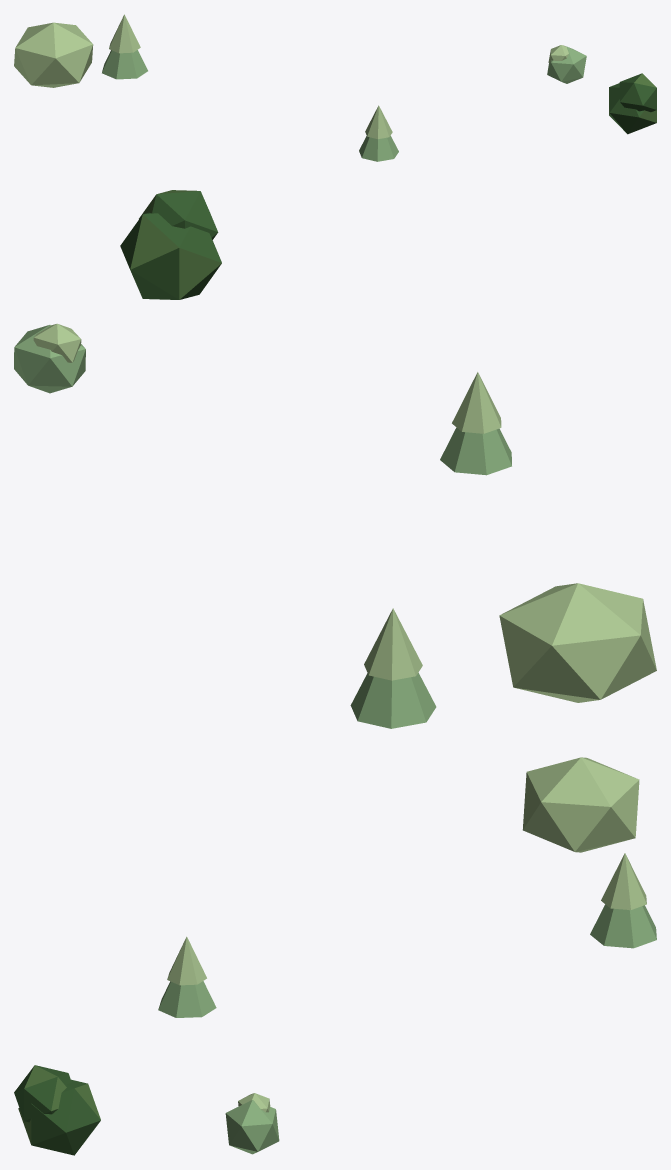
The model's file is side_treasure_hollow_wind_canopies.fbx.
The picture shows the model from 3 angles, top to bottom: view 1: azimuth 30°, elevation 25°; view 2: azimuth 150°, elevation 25°; view 3: azimuth 270°, elevation 25°; orthographic projection. The views are drawn at different scales.
Visible parts, largest first — view 1: chunk_side_treasure_hollow__tree_canopy_01, chunk_side_treasure_hollow__detail_scatter_tree_02_canopy, chunk_side_treasure_hollow__tree_canopy_02, chunk_side_treasure_hollow__tree_canopy_07, chunk_side_treasure_hollow__tree_canopy_04, chunk_side_treasure_hollow__tree_canopy_03, chunk_side_treasure_hollow__tree_canopy_05, chunk_side_treasure_hollow__tree_canopy_06; view 2: chunk_side_treasure_hollow__tree_canopy_01, chunk_side_treasure_hollow__detail_scatter_tree_02_canopy, chunk_side_treasure_hollow__tree_canopy_02, chunk_side_treasure_hollow__tree_canopy_07, chunk_side_treasure_hollow__tree_canopy_04, chunk_side_treasure_hollow__tree_canopy_03, chunk_side_treasure_hollow__tree_canopy_05, chunk_side_treasure_hollow__tree_canopy_06; view 3: chunk_side_treasure_hollow__tree_canopy_01, chunk_side_treasure_hollow__detail_scatter_tree_02_canopy, chunk_side_treasure_hollow__tree_canopy_02, chunk_side_treasure_hollow__tree_canopy_07, chunk_side_treasure_hollow__tree_canopy_04, chunk_side_treasure_hollow__tree_canopy_03, chunk_side_treasure_hollow__tree_canopy_05.
Part boxes in pixels (x1,y1,x2,y2): chunk_side_treasure_hollow__tree_canopy_01: (14,22,93,87); chunk_side_treasure_hollow__detail_scatter_tree_02_canopy: (609,73,656,134); chunk_side_treasure_hollow__tree_canopy_02: (102,50,147,79); chunk_side_treasure_hollow__tree_canopy_07: (547,46,586,83); chunk_side_treasure_hollow__tree_canopy_04: (359,135,398,161); chunk_side_treasure_hollow__tree_canopy_03: (109,14,140,53); chunk_side_treasure_hollow__tree_canopy_05: (365,105,392,139); chunk_side_treasure_hollow__tree_canopy_06: (548,45,568,63); chunk_side_treasure_hollow__tree_canopy_01: (499,583,656,702); chunk_side_treasure_hollow__detail_scatter_tree_02_canopy: (120,190,221,299); chunk_side_treasure_hollow__tree_canopy_02: (350,672,436,728); chunk_side_treasure_hollow__tree_canopy_07: (14,325,85,393); chunk_side_treasure_hollow__tree_canopy_04: (440,427,511,475); chunk_side_treasure_hollow__tree_canopy_03: (364,608,422,680); chunk_side_treasure_hollow__tree_canopy_05: (452,372,501,433); chunk_side_treasure_hollow__tree_canopy_06: (33,323,81,362); chunk_side_treasure_hollow__tree_canopy_01: (522,757,639,852); chunk_side_treasure_hollow__detail_scatter_tree_02_canopy: (14,1065,100,1155); chunk_side_treasure_hollow__tree_canopy_02: (590,904,656,948); chunk_side_treasure_hollow__tree_canopy_07: (225,1100,279,1154); chunk_side_treasure_hollow__tree_canopy_04: (158,981,216,1017); chunk_side_treasure_hollow__tree_canopy_03: (601,853,646,909); chunk_side_treasure_hollow__tree_canopy_05: (167,936,206,985).
Bounding box in the file's own units: 178 × 29.11 × 147.
